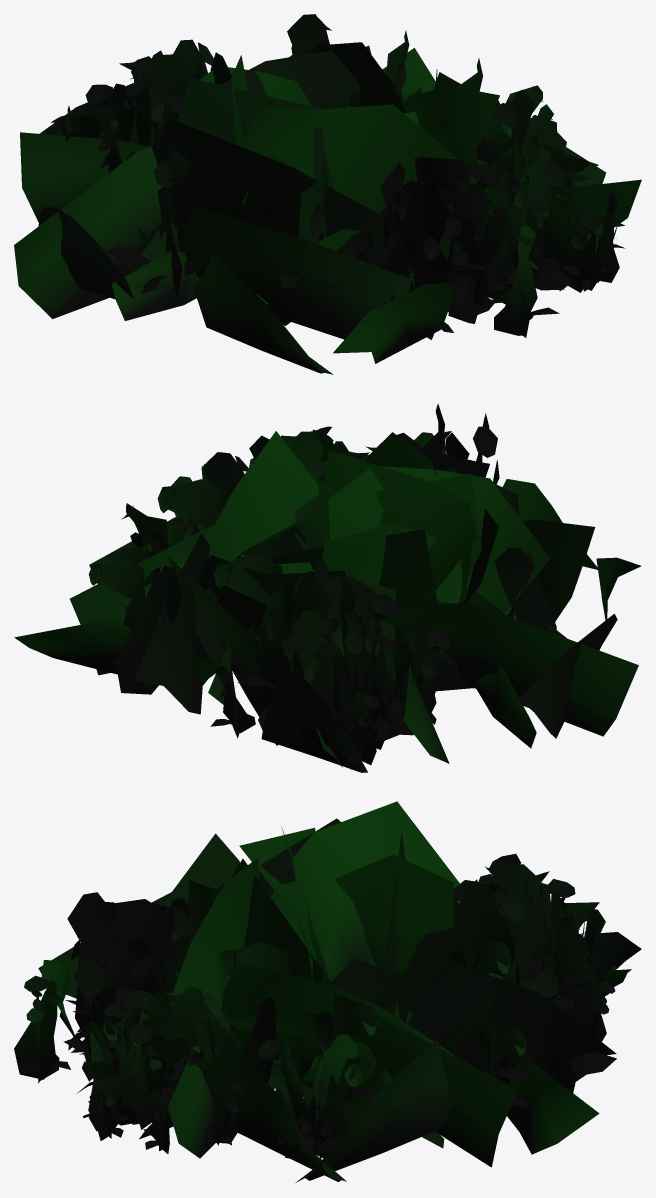
Rendered from Grass Mixed_A.fbx.
3 renders of one model, top to bottom at view 1: azimuth 30°, elevation 25°; view 2: azimuth 150°, elevation 25°; view 3: azimuth 270°, elevation 25°, orthographic. The views are drawn at different scales.
Visible parts, largest first — view 1: Grass MixedA_G_LOD0, Grass MixedA_F_LOD0; view 2: Grass MixedA_G_LOD0, Grass MixedA_F_LOD0; view 3: Grass MixedA_G_LOD0, Grass MixedA_F_LOD0.
Part boxes in pixels (x1,y1,x2,y2): Grass MixedA_G_LOD0: (14,42,641,374); Grass MixedA_F_LOD0: (51,14,625,337); Grass MixedA_G_LOD0: (14,431,641,772); Grass MixedA_F_LOD0: (88,403,556,764); Grass MixedA_G_LOD0: (38,801,641,1182); Grass MixedA_F_LOD0: (14,853,616,1160).
Size of what is drawn, in the model's own units: 2.14 by 0.7275 by 1.97.
